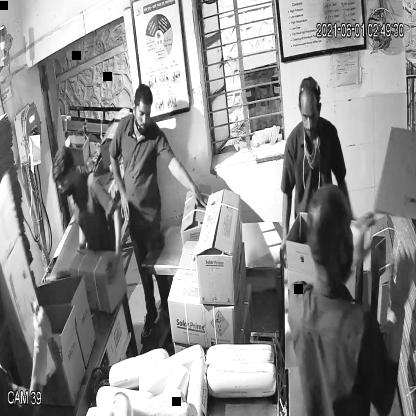no_goggles: (297, 102, 323, 128), (133, 104, 154, 123)
